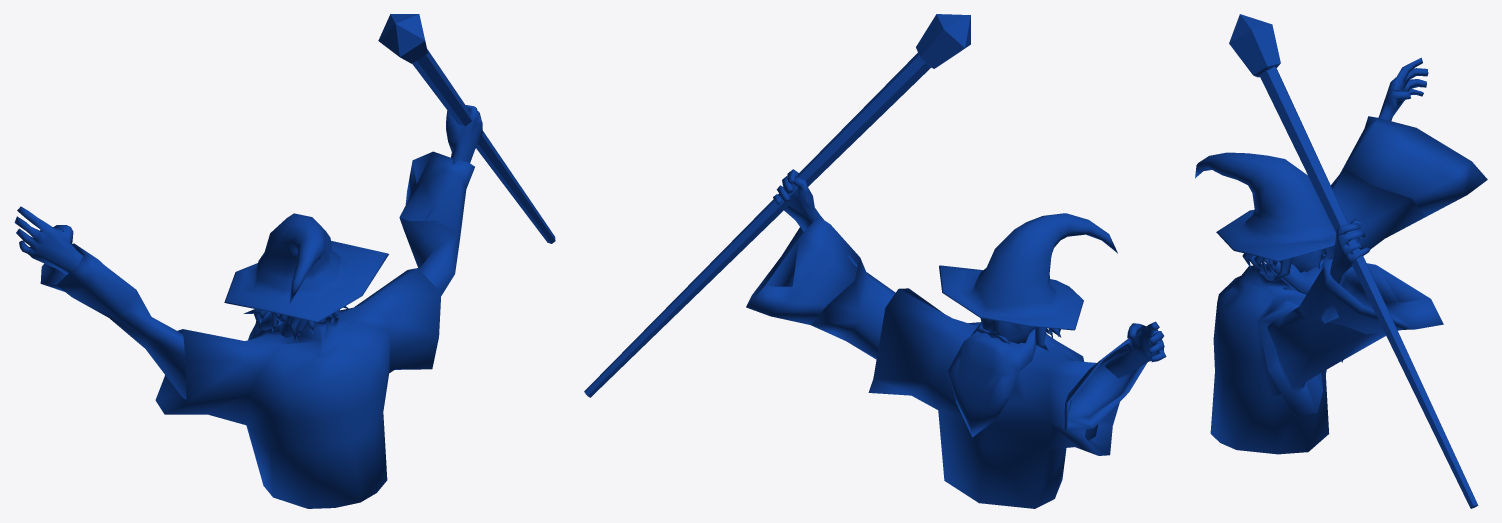
Rendered from top_000044.obj.
The picture shows the model from 3 angles, left to right: view 1: azimuth 30°, elevation 25°; view 2: azimuth 150°, elevation 25°; view 3: azimuth 270°, elevation 25°; orthographic projection. The views are drawn at different scales.
Parts seen in each view (by area): view 1: Wizard.002_Plane.002; view 2: Wizard.002_Plane.002; view 3: Wizard.002_Plane.002.
Boxes of the visible parts, left/top/right/bottom form: Wizard.002_Plane.002: left=14, top=14, right=555, bottom=508; Wizard.002_Plane.002: left=584, top=14, right=1166, bottom=508; Wizard.002_Plane.002: left=1195, top=14, right=1487, bottom=508.
Bounding box in the file's own units: 2.01 × 1.57 × 0.9253.
